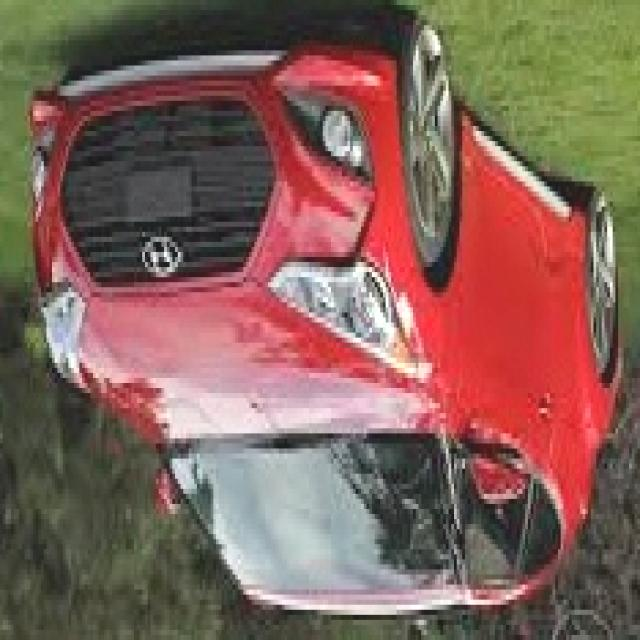red: (35, 65, 640, 610)
